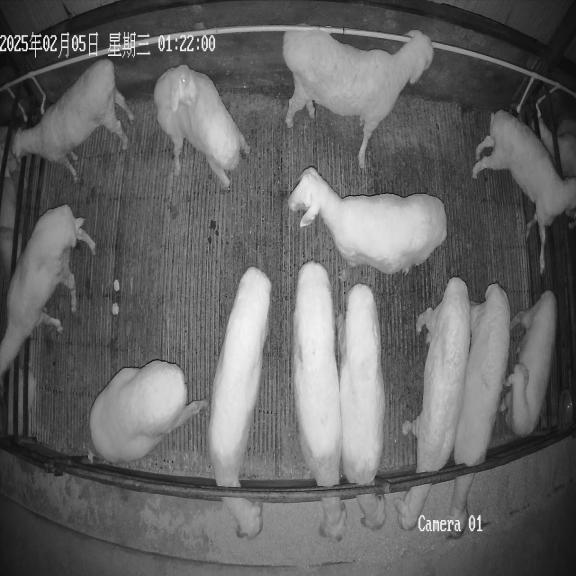eating: (396, 277, 470, 530), (208, 267, 271, 539), (450, 284, 510, 537), (292, 261, 346, 541), (336, 284, 386, 530)
stand: (283, 30, 434, 168), (287, 167, 446, 274), (472, 110, 576, 272), (0, 205, 95, 378), (11, 59, 134, 182), (90, 360, 207, 463), (154, 65, 250, 188), (499, 290, 557, 436)
